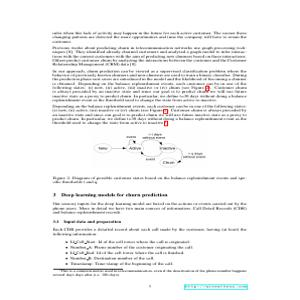text: (50, 29, 251, 278)
